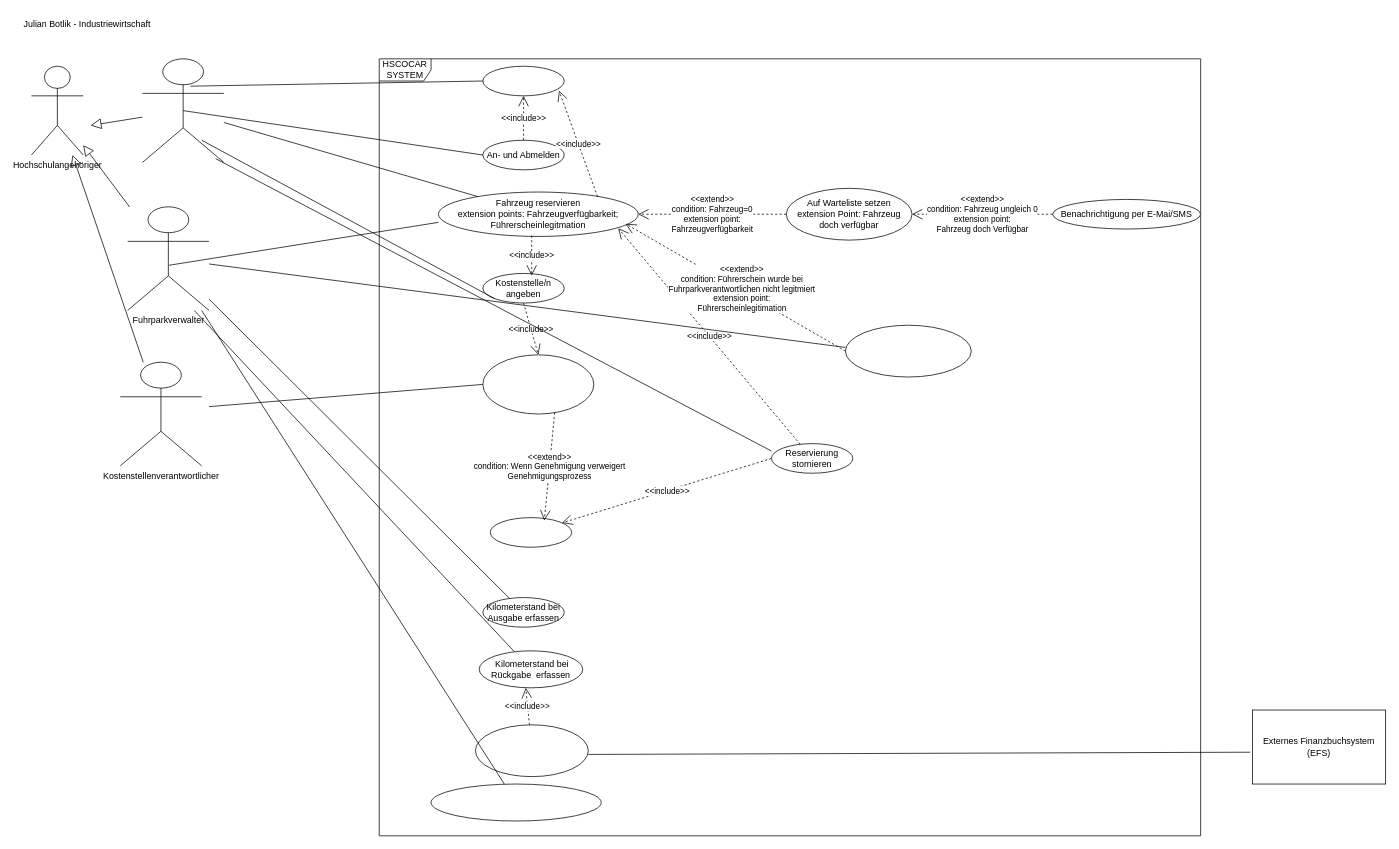
The diagram is 1399 pixels wide and 849 high, and some of its shapes have lost their labels. The shapes that lost their labels are listed below. From the top down, each one's box as (x1, y1, x2, y2) in pixels, then its label:
(482, 65, 564, 96): Registrieren
(142, 58, 224, 162): Dienstreisender
(845, 324, 971, 377): gültige Fahrerlaubnis prüfen
(482, 354, 594, 414): Kostenstelle genehmigen Extension Point: Genehmigunfsprozess
(490, 517, 572, 547): Benachrichtigung senden
(475, 724, 588, 777): Kosten berechnen und an EFS weiterleiten
(430, 783, 601, 821): Datenändernungen vornehmen (Fahrzeuge und Kostenstellen
